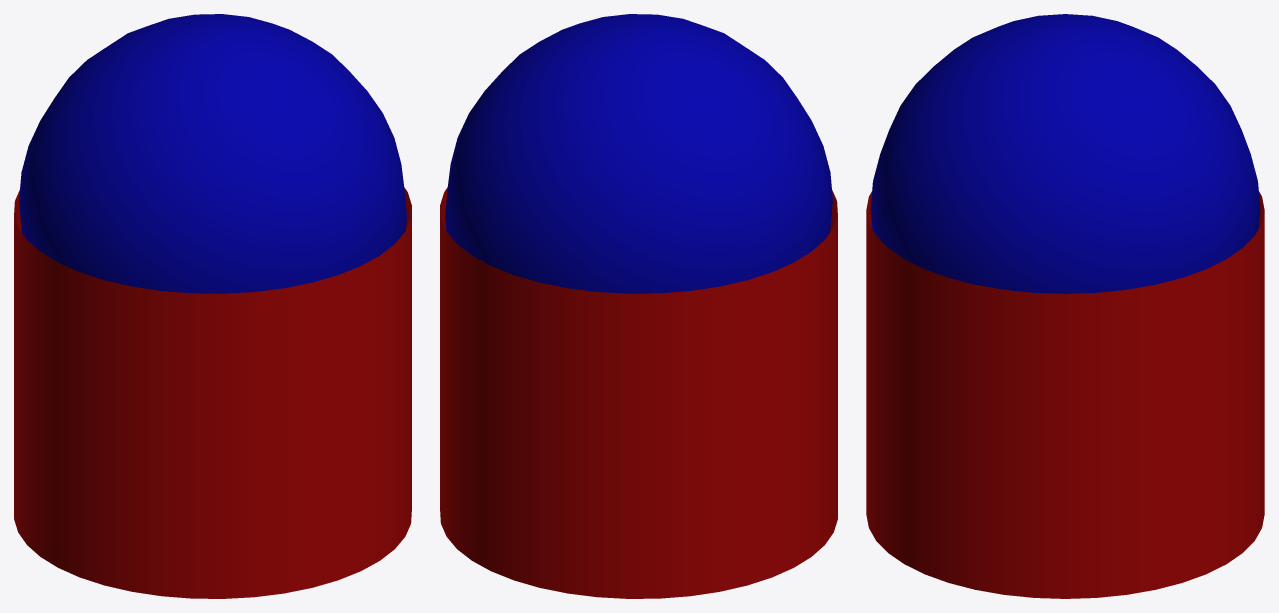
Rendered from Sphere_and_cloth.fbx.
3 renders of one model, left to right at view 1: azimuth 30°, elevation 25°; view 2: azimuth 150°, elevation 25°; view 3: azimuth 270°, elevation 25°, orthographic.
Parts seen in each view (by area): view 1: pCylinder1, pSphere1; view 2: pCylinder1, pSphere1; view 3: pCylinder1, pSphere1.
Part boxes in pixels (bbox=[...]): pCylinder1: bbox=[14, 187, 411, 598]; pSphere1: bbox=[19, 14, 406, 293]; pCylinder1: bbox=[440, 187, 837, 598]; pSphere1: bbox=[445, 14, 832, 293]; pCylinder1: bbox=[866, 191, 1264, 598]; pSphere1: bbox=[870, 14, 1260, 293].
Size of the model in its own units: 155 by 207 by 155.
